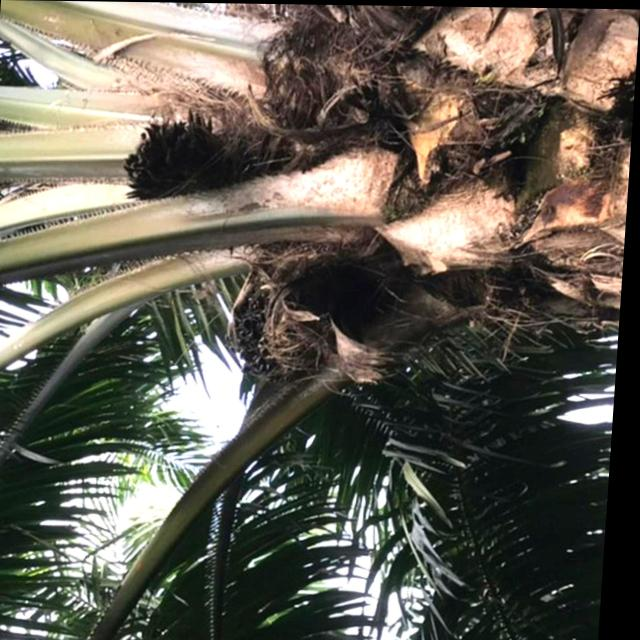almost: (231, 241, 374, 385)
